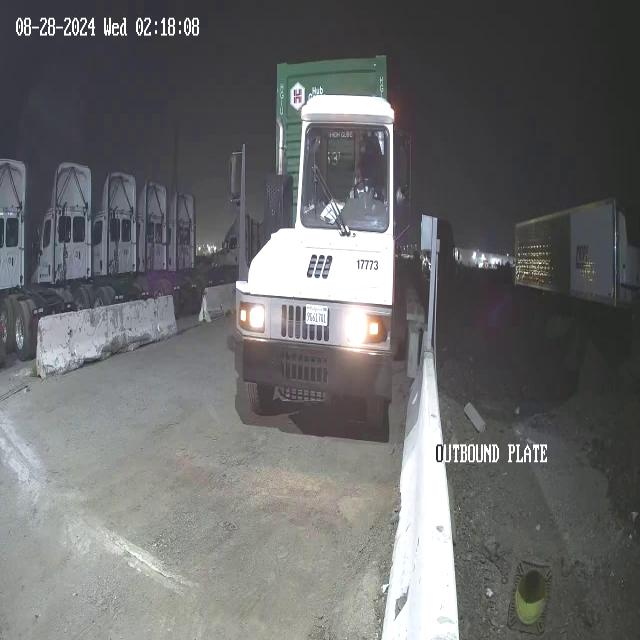TRUCK_CONTAINER: (231, 56, 413, 440)
